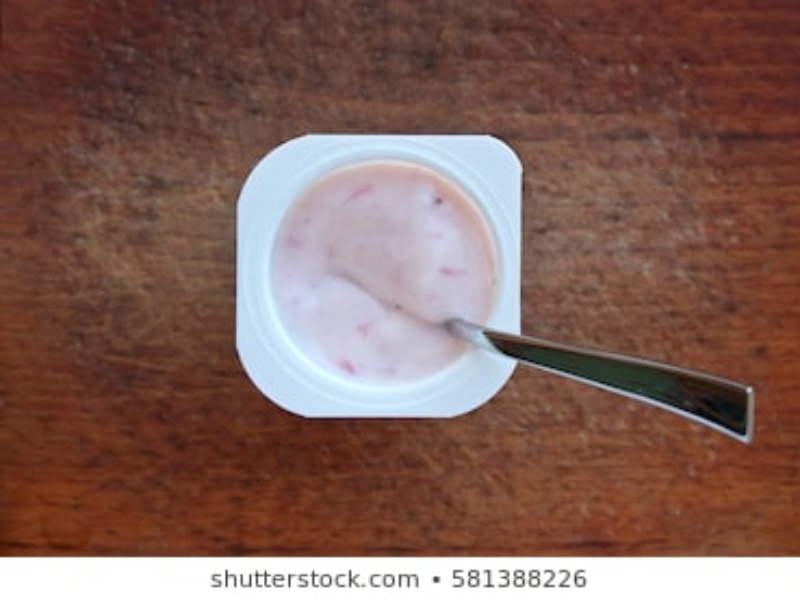yogurt-cup: (222, 118, 543, 429)
